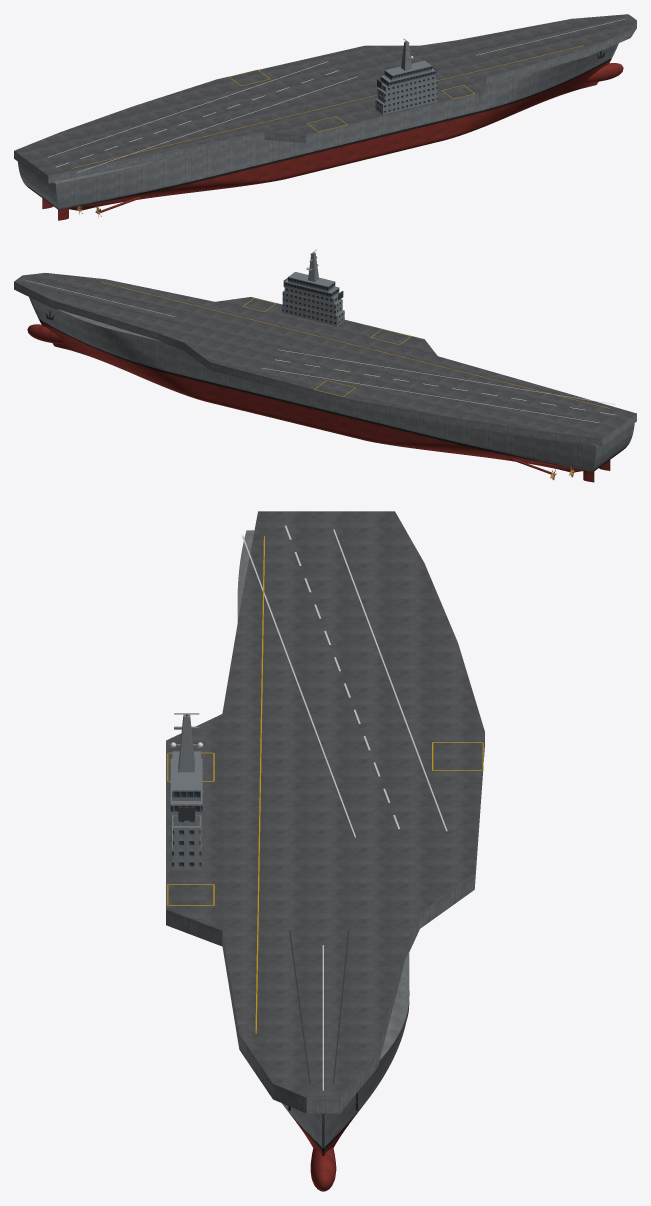
Rendered from generic-unarmed-aircraft-carrier.glb.
3 views of the same model, one above another, from view 1: azimuth 30°, elevation 25°; view 2: azimuth 150°, elevation 25°; view 3: azimuth 270°, elevation 25° (orthographic). The views are drawn at different scales.
Visible parts, largest first — view 1: Flight deck, Hull, Gallery deck and sponsons, Island, Flight deck markings; view 2: Flight deck, Hull, Gallery deck and sponsons, Island, Flight deck markings; view 3: Flight deck, Hull, Gallery deck and sponsons, Flight deck markings, Island, Island mast.
Boxes of the visible parts, x1,y1,x2,y2 form: Flight deck: (14,14,636,176); Hull: (18,43,623,210); Gallery deck and sponsons: (14,21,636,183); Island: (375,60,437,114); Flight deck markings: (48,19,625,172); Flight deck: (14,273,636,438); Hull: (27,297,634,472); Gallery deck and sponsons: (14,282,636,446); Island: (282,272,344,326); Flight deck markings: (26,279,615,422); Flight deck: (166,511,484,1098); Hull: (237,530,409,1191); Gallery deck and sponsons: (166,735,484,1113); Flight deck markings: (167,525,483,1090); Island: (170,751,202,870); Island mast: (170,713,203,772).
Bounding box in the file's own units: 330 × 65 × 75.86.
Materials: 14 (14 with a texture image).
